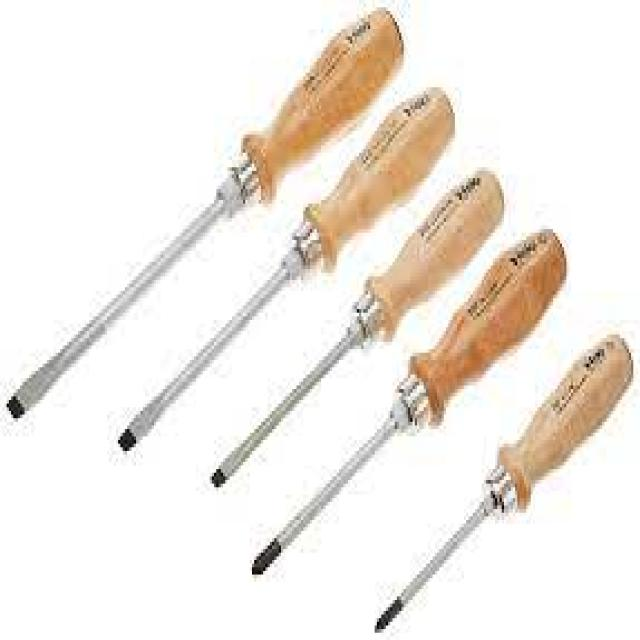Screwdriver: (9, 7, 404, 416), (118, 87, 455, 449), (254, 229, 566, 573), (212, 171, 504, 485), (377, 335, 636, 631)
